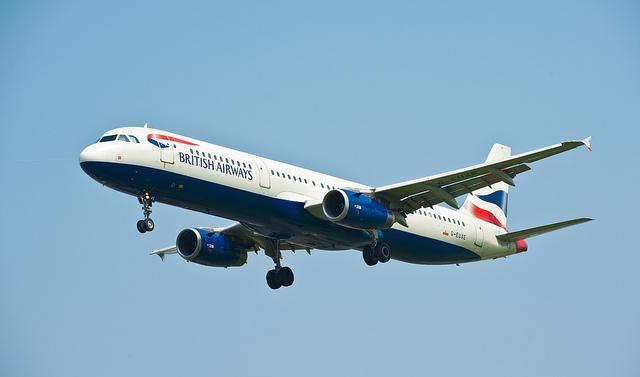airplane: (78, 121, 597, 291)
